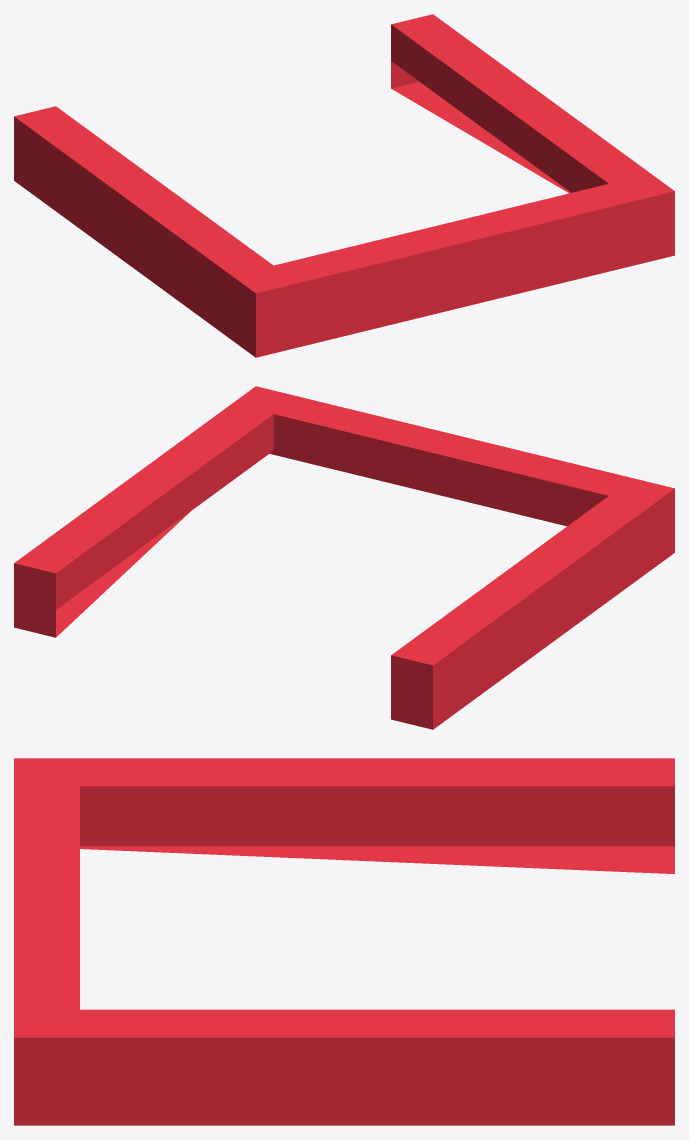
Rendered from holeSquare_pared.FBX.
The picture shows the model from 3 angles, top to bottom: view 1: azimuth 30°, elevation 25°; view 2: azimuth 150°, elevation 25°; view 3: azimuth 270°, elevation 25°; orthographic projection. The views are drawn at different scales.
Parts seen in each view (by area): view 1: holeSquare; view 2: holeSquare; view 3: holeSquare.
Boxes of the visible parts, x1,y1,x2,y2 form: holeSquare: (14,14,674,357); holeSquare: (14,386,674,729); holeSquare: (14,758,674,1125).
Size of the model in its own units: 99.99 by 14.67 by 99.99.
